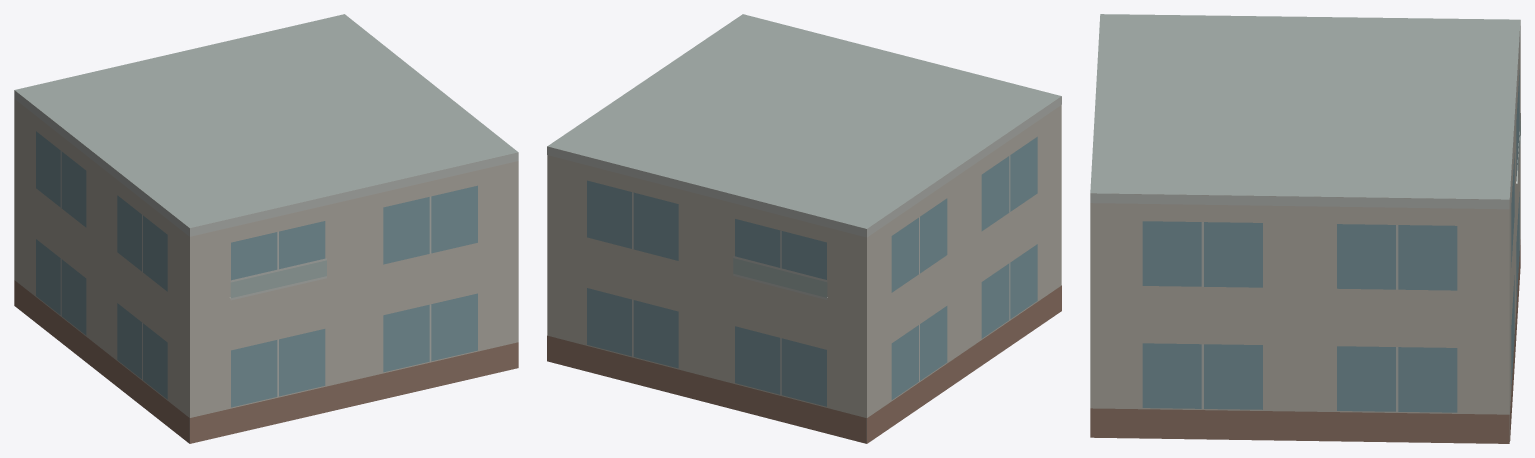
The model's file is survey-upis-32654639.glb.
3 renders of one model, left to right at view 1: azimuth 30°, elevation 25°; view 2: azimuth 150°, elevation 25°; view 3: azimuth 270°, elevation 25°, orthographic. The views are drawn at different scales.
Parts seen in each view (by area): view 1: survey-upis-32654639.tmp; view 2: survey-upis-32654639.tmp; view 3: survey-upis-32654639.tmp.
Part boxes in pixels (box(x1,y1,x2,y2)): survey-upis-32654639.tmp: box(14, 14, 518, 443); survey-upis-32654639.tmp: box(547, 14, 1061, 443); survey-upis-32654639.tmp: box(1090, 14, 1520, 443).
Size of the model in its own units: 9.95 by 6.1 by 9.75.
